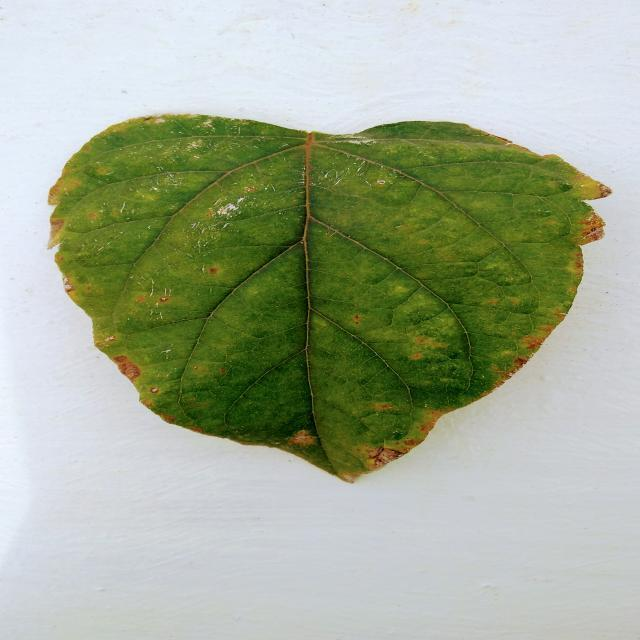leaf: (46, 111, 611, 483)
